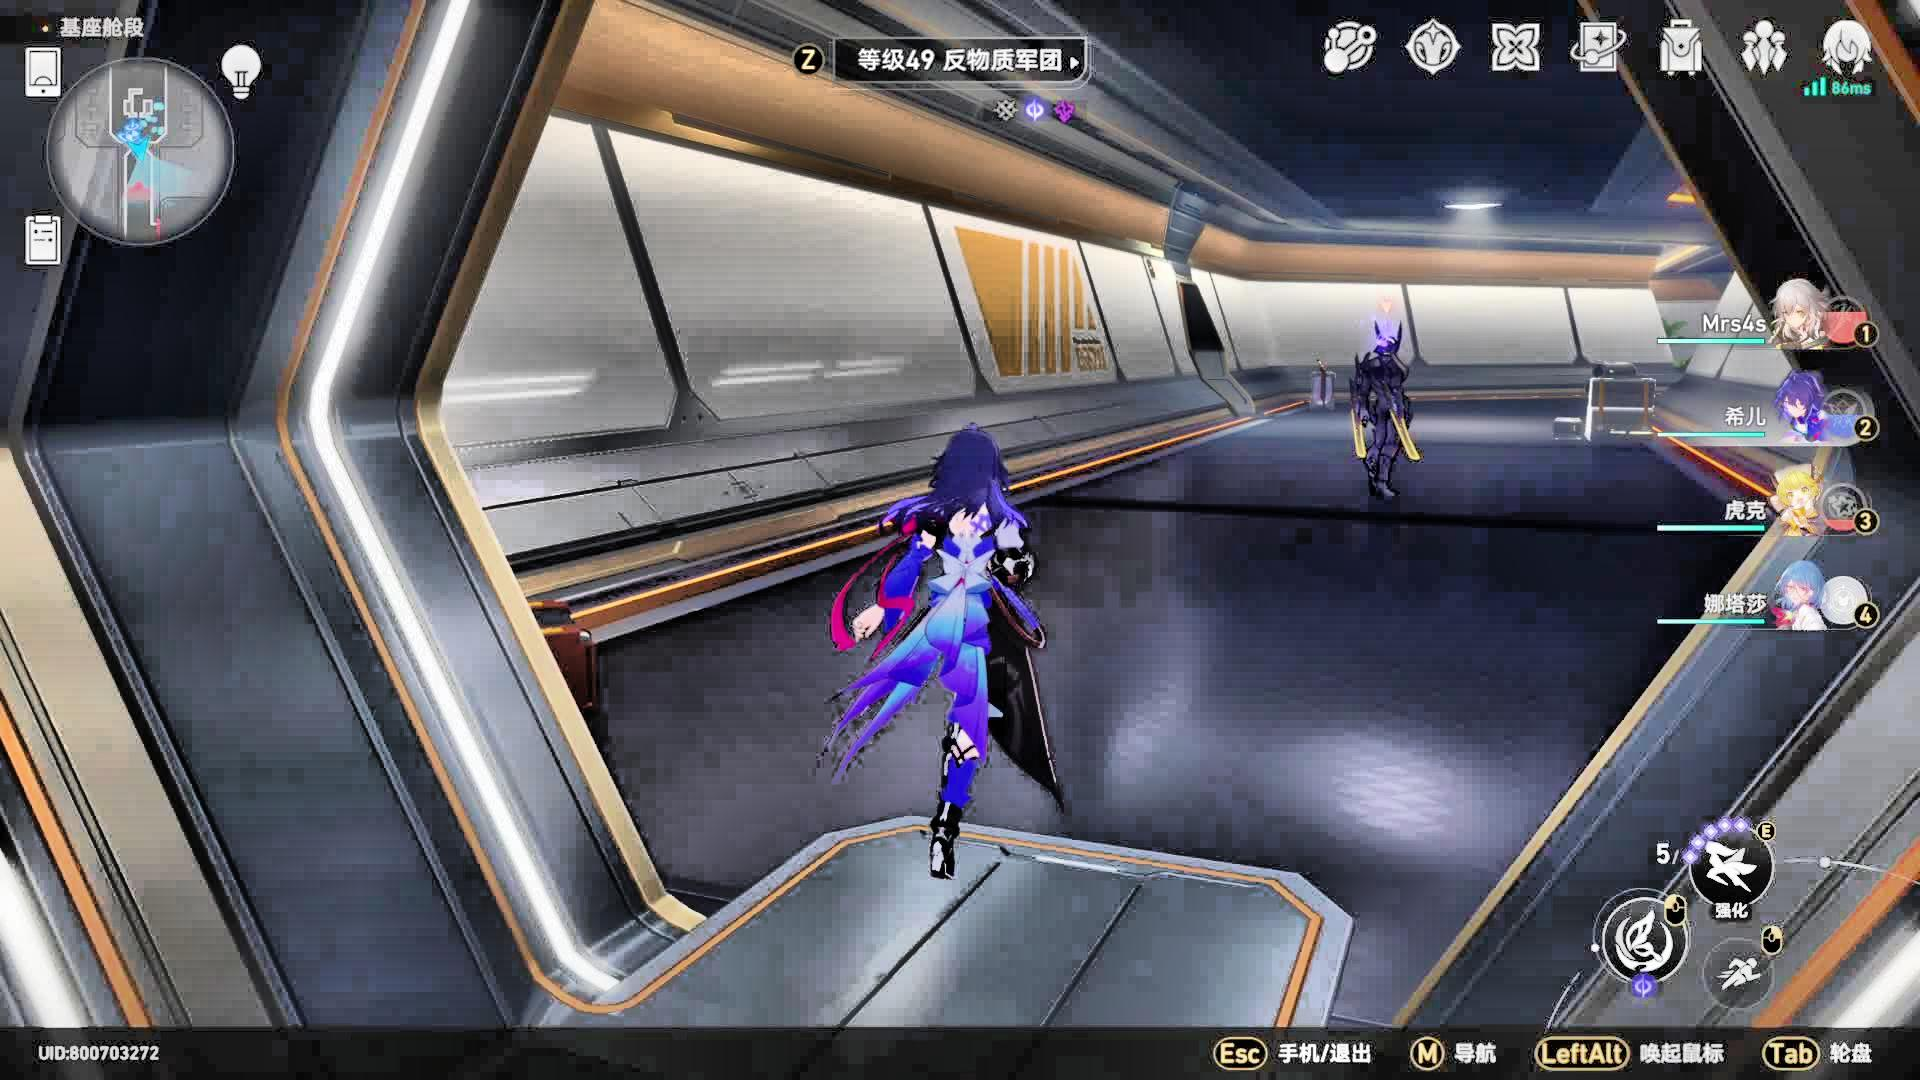Box: (1555, 376, 1656, 446)
Enemy: (1353, 319, 1414, 516)
Self: (833, 423, 1069, 880)
